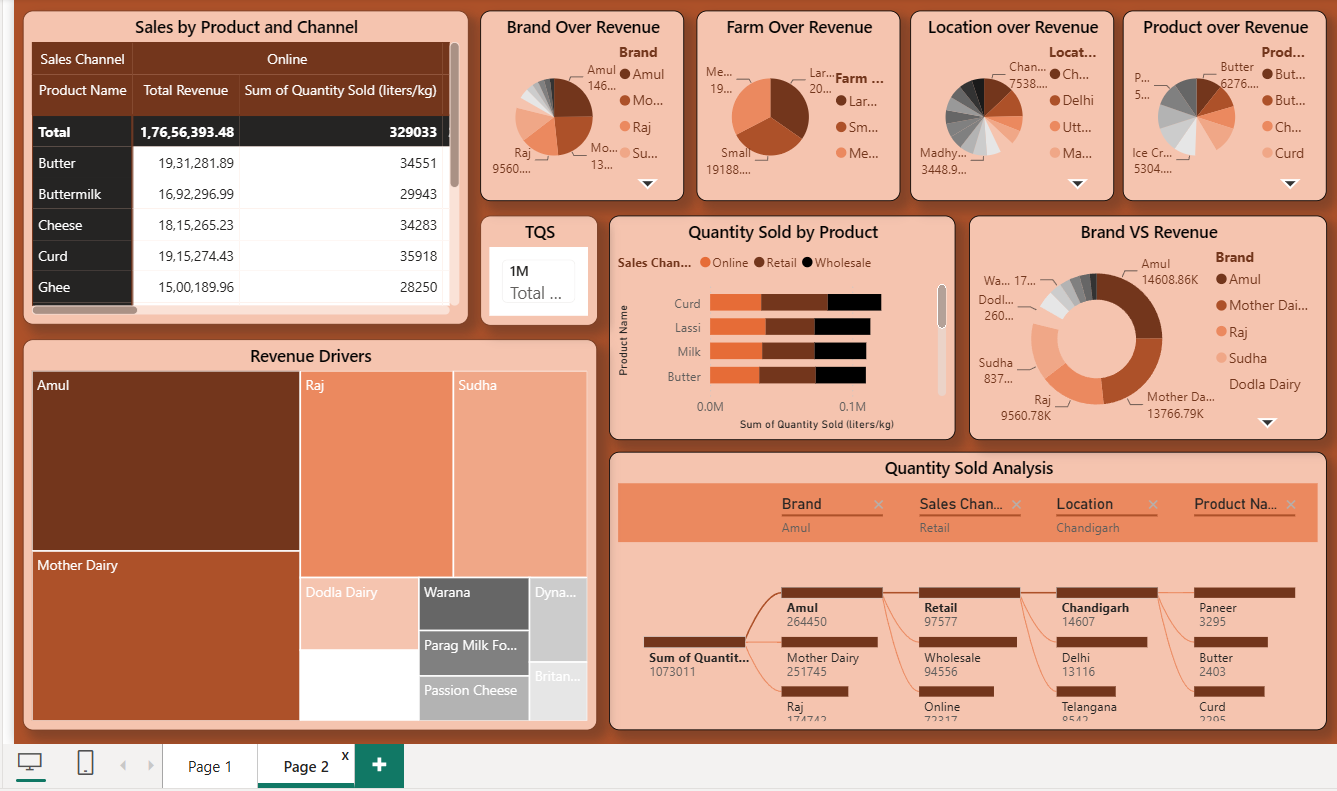

This screenshot's page, from the dashboard's own definition file:
{"tool":"powerbi","page":{"name":"Page 2","canvas":[1280,720],"ordinal":1},"visuals":[{"type":"pivotTable","title":"Sales by Product and Channel","fields":{"Rows":["dairy_dataset.Product Name"],"Values":["dairy_dataset.Total Revenue","Sum(dairy_dataset.Quantity Sold (liters/kg))"],"Columns":["dairy_dataset.Sales Channel"]},"box":[8.8,12.6,430.5,303],"z":1000},{"type":"barChart","title":"Quantity Sold by Product","fields":{"Y":["Sum(dairy_dataset.Quantity Sold (liters/kg))"],"Series":["dairy_dataset.Sales Channel"],"Category":["dairy_dataset.Product Name"]},"box":[574.5,209.6,334.6,217.2],"z":3000},{"type":"decompositionTreeVisual","title":"Quantity Sold Analysis","fields":{"Analyze":["Sum(dairy_dataset.Quantity Sold (liters/kg))"],"ExplainBy":["dairy_dataset.Brand","dairy_dataset.Sales Channel","dairy_dataset.Location","dairy_dataset.Product Name"]},"box":[574.5,438.1,693.2,268.9],"z":4000},{"type":"treemap","title":"Revenue Drivers","fields":{"Group":["dairy_dataset.Brand"],"Values":["dairy_dataset.Total Revenue"]},"box":[8.8,329.5,554.3,377.5],"z":6000},{"type":"cardVisual","title":"TQS","fields":{"Data":["dairy_dataset.Total Quantity Sold"]},"box":[449.5,209.6,113.6,106.1],"z":6001},{"type":"pieChart","title":"Brand Over Revenue","fields":{"Y":["dairy_dataset.Total Revenue"],"Category":["dairy_dataset.Brand"]},"box":[449.5,12.6,197,184.3],"z":6002},{"type":"pieChart","title":"Farm Over Revenue","fields":{"Y":["dairy_dataset.Total Revenue"],"Category":["dairy_dataset.Farm Size"]},"box":[659.1,12.6,197,184.3],"z":6003},{"type":"pieChart","title":"Location over Revenue","fields":{"Y":["dairy_dataset.Total Revenue"],"Category":["dairy_dataset.Location"]},"box":[864.9,12.6,197,184.3],"z":6004},{"type":"pieChart","title":"Product over Revenue","fields":{"Y":["dairy_dataset.Total Revenue"],"Series":["dairy_dataset.Product Name"]},"box":[1070.7,12.6,197,184.3],"z":6005},{"type":"donutChart","title":"Brand VS Revenue","fields":{"Y":["dairy_dataset.Total Revenue"],"Category":["dairy_dataset.Brand"]},"box":[921.7,209.6,345.9,217.2],"z":6006}]}

Visuals, with their boxes in screenshot pixels (x1, y1, x2, y2):
"Sales by Product and Channel" pivotTable: 23 9 466 322
"Quantity Sold by Product" barChart: 606 212 950 436
"Quantity Sold Analysis" decompositionTreeVisual: 606 448 1320 725
"Revenue Drivers" treemap: 23 336 594 725
"TQS" cardVisual: 477 212 594 322
"Brand Over Revenue" pieChart: 477 9 680 199
"Farm Over Revenue" pieChart: 693 9 896 199
"Location over Revenue" pieChart: 905 9 1108 199
"Product over Revenue" pieChart: 1117 9 1320 199
"Brand VS Revenue" donutChart: 963 212 1320 436
